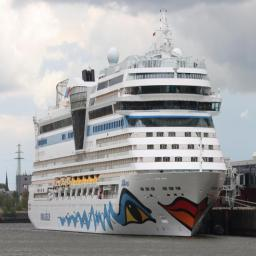cruises: (29, 12, 228, 240)
